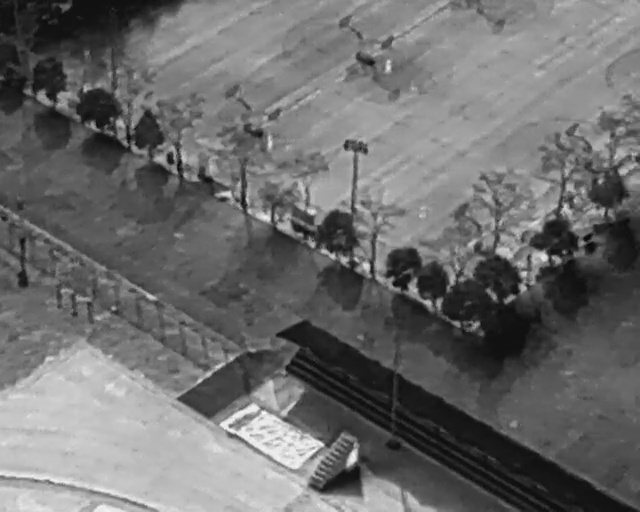Person: (383, 55, 394, 77), (265, 132, 274, 152)
